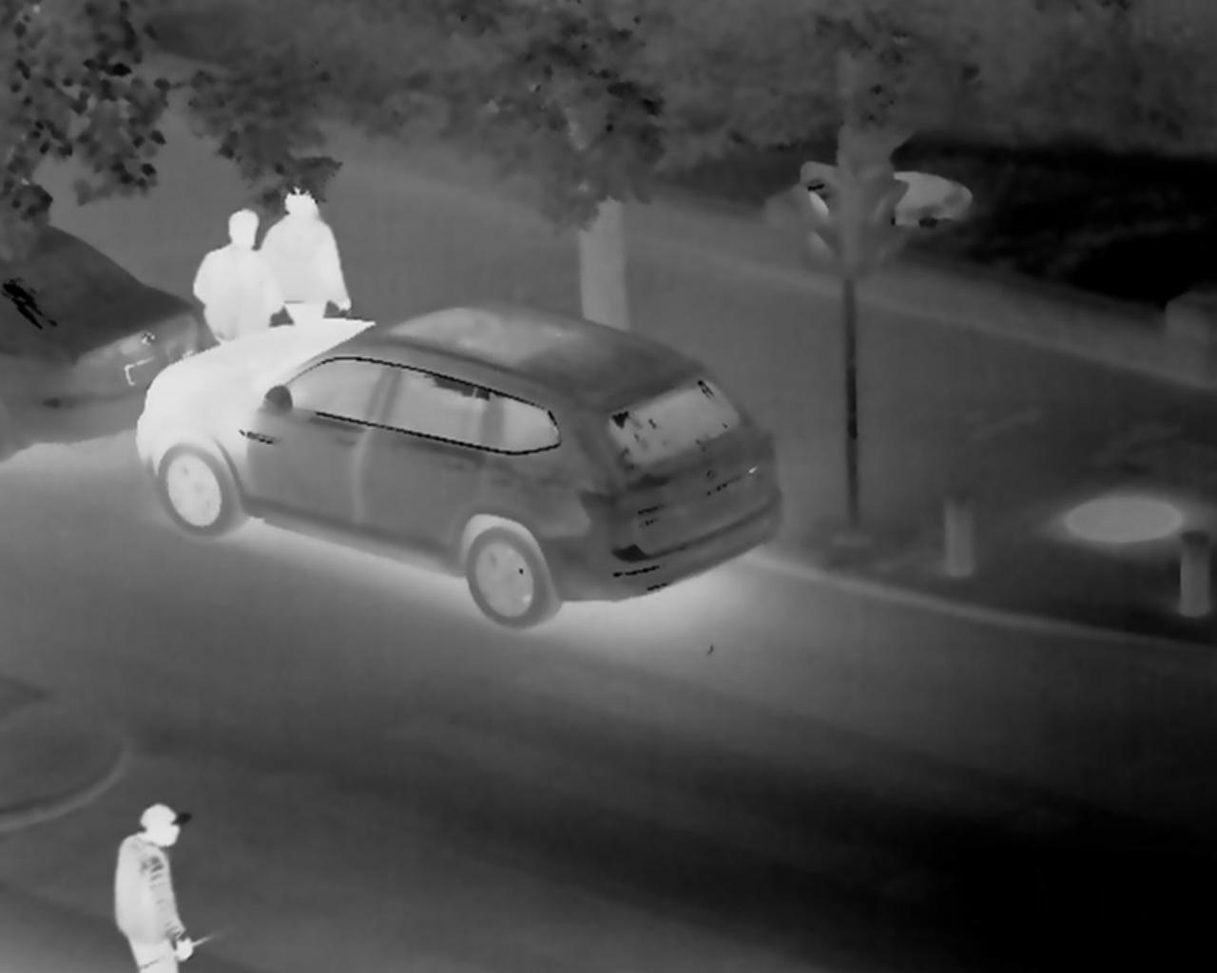person: (100, 800, 232, 973), (264, 181, 351, 315), (192, 197, 265, 333)
